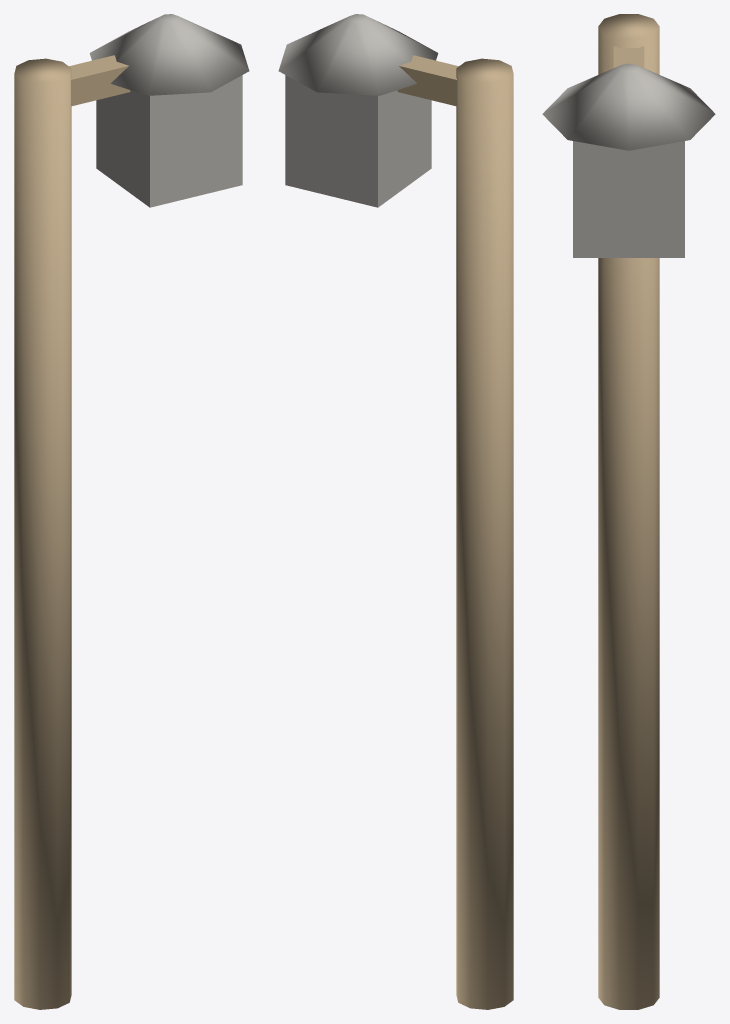
Rendered from lantern.fbx.
3 views of the same model, side by side, from view 1: azimuth 30°, elevation 25°; view 2: azimuth 150°, elevation 25°; view 3: azimuth 270°, elevation 25° (orthographic). The views are drawn at different scales.
Visible parts, largest first — view 1: EN_lantern; view 2: EN_lantern; view 3: EN_lantern.
Part boxes in pixels (x1=…): EN_lantern: x1=14, y1=14, x2=249, y2=1009; EN_lantern: x1=278, y1=14, x2=513, y2=1009; EN_lantern: x1=542, y1=14, x2=715, y2=1009.
Size of the model in its own units: 52.71 by 215 by 34.
